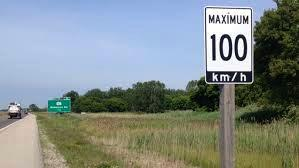speed limit sign: (203, 6, 255, 86)
